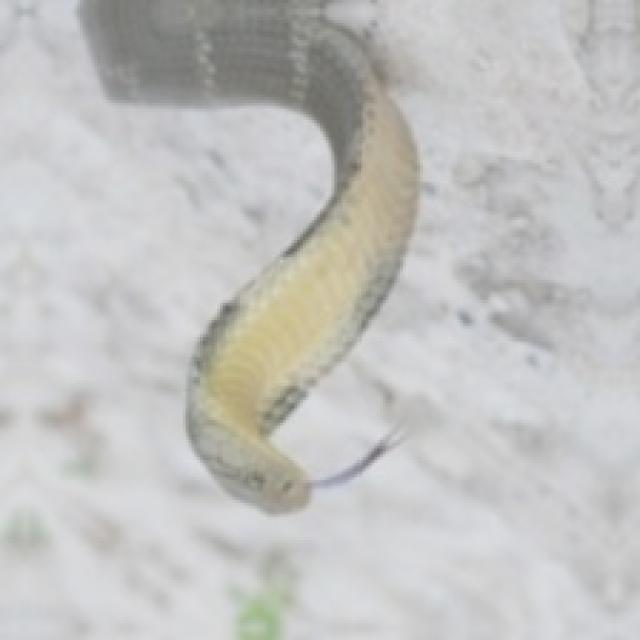king cobra: (80, 0, 414, 511)
